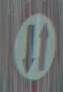Two way: (8, 9, 56, 78)
